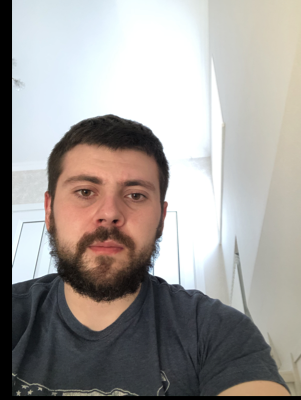without_mask: (55, 165, 161, 304)
